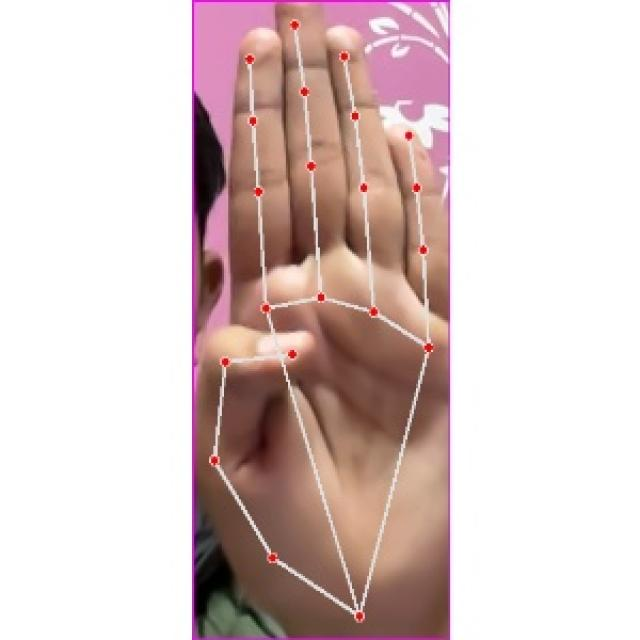B: (197, 0, 448, 638)
